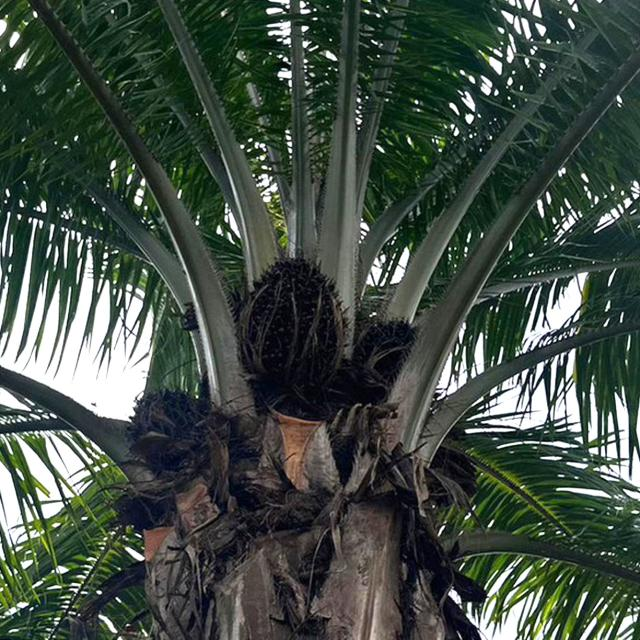almost: (236, 254, 347, 391), (128, 388, 218, 474)
